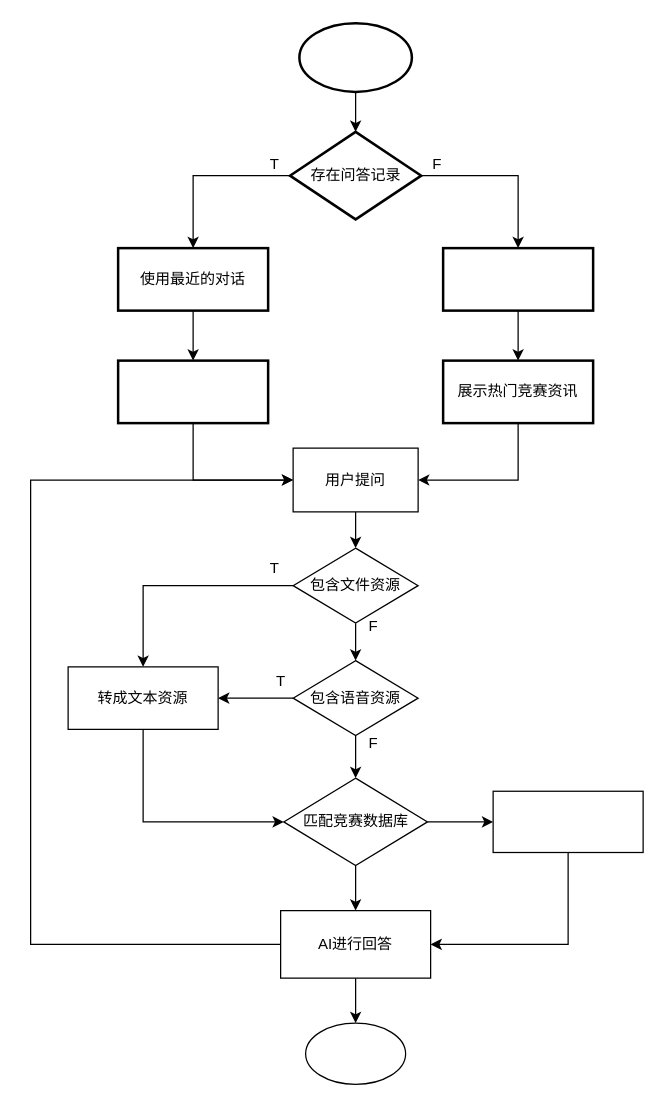
The diagram is 665 pixels wide and 1106 high, and some of its shapes have lost their labels. Here are the shapes that lost their labels. From the top down, the box of each, then its label:
(298, 21, 412, 92): Start
(441, 246, 594, 311): 创建新对话
(116, 359, 269, 424): 展示对话历史内容
(492, 790, 643, 852): 提取相关竞赛信息
(304, 1022, 406, 1084): End
